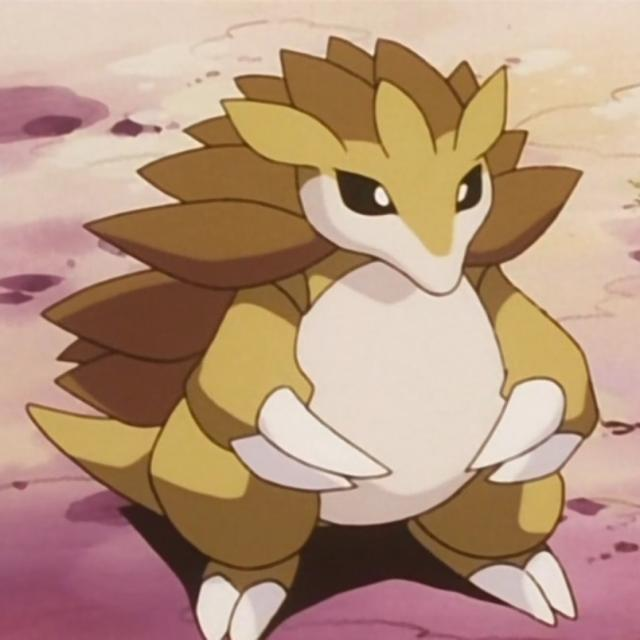Sandslash: (96, 78, 622, 587)
